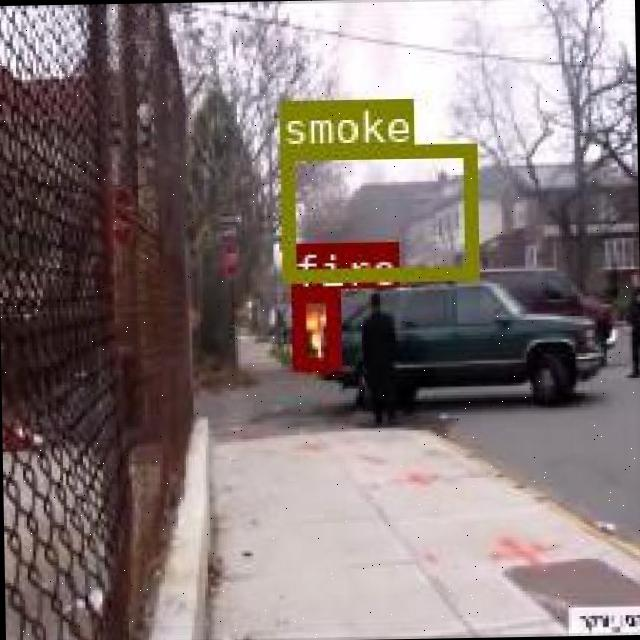fire: (288, 286, 336, 368)
smoke: (280, 142, 474, 278)
